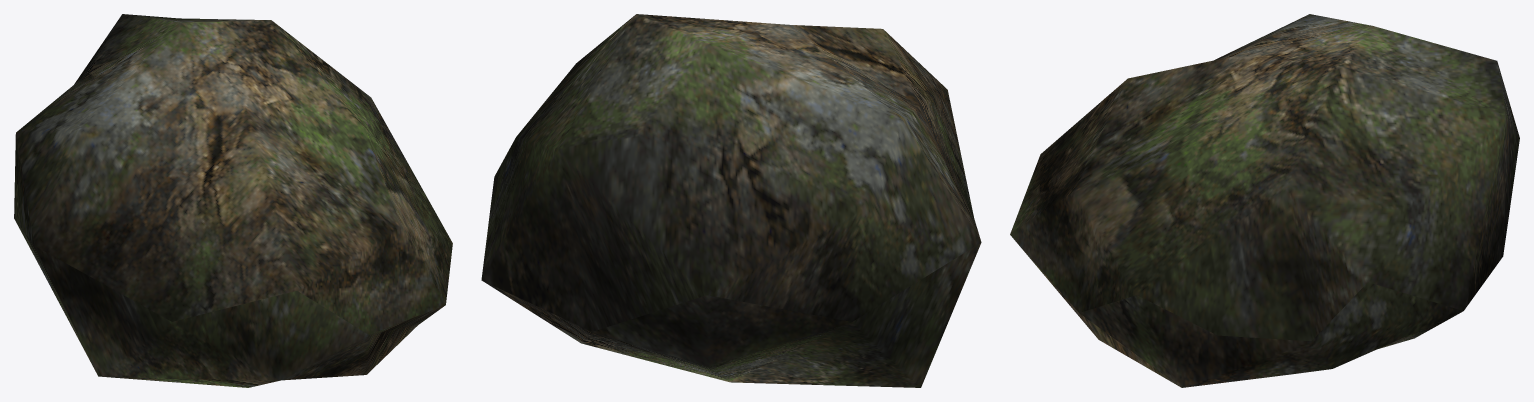
3 views of the same model, side by side, from view 1: azimuth 30°, elevation 25°; view 2: azimuth 150°, elevation 25°; view 3: azimuth 270°, elevation 25° (orthographic). The views are drawn at different scales.
Parts seen in each view (by area): view 1: SMDImport; view 2: SMDImport; view 3: SMDImport.
Part boxes in pixels (bbox=[...]): SMDImport: bbox=[14, 14, 452, 387]; SMDImport: bbox=[481, 14, 981, 387]; SMDImport: bbox=[1010, 14, 1519, 387].
Size of the model in its own units: 275 by 208 by 304.
